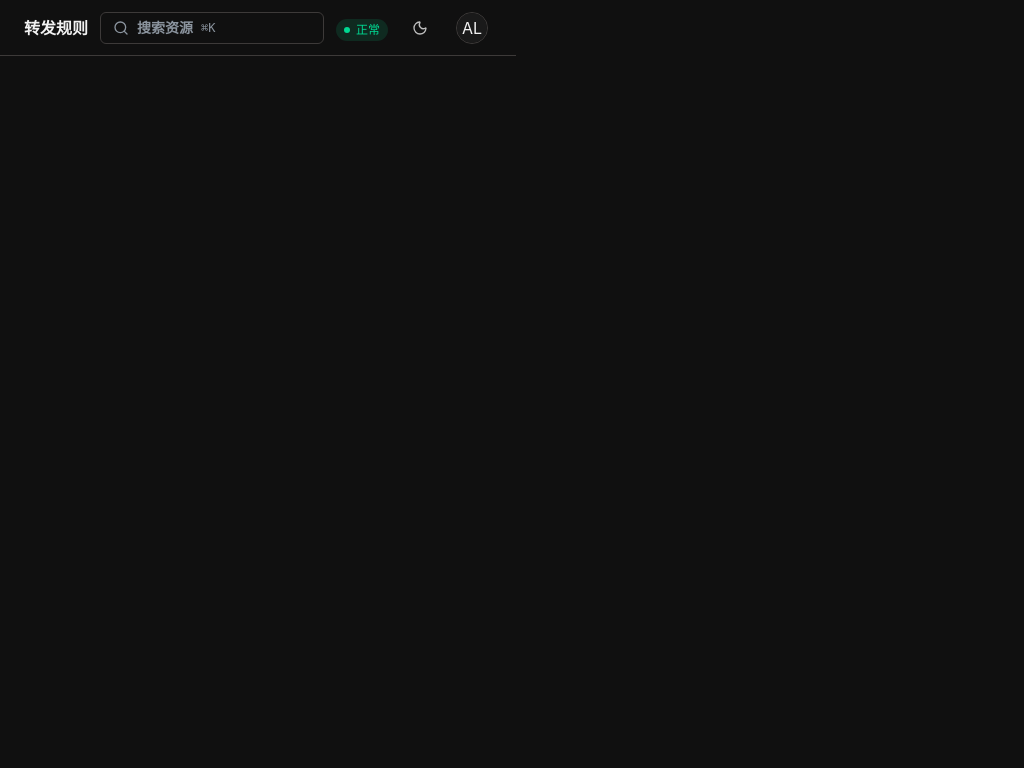
Test: 应用外壳与命令面板 › CmdK打开、按类型分组、键盘回车跳转真实focus ID，Esc关闭
The image size is (1024, 768).
Press k
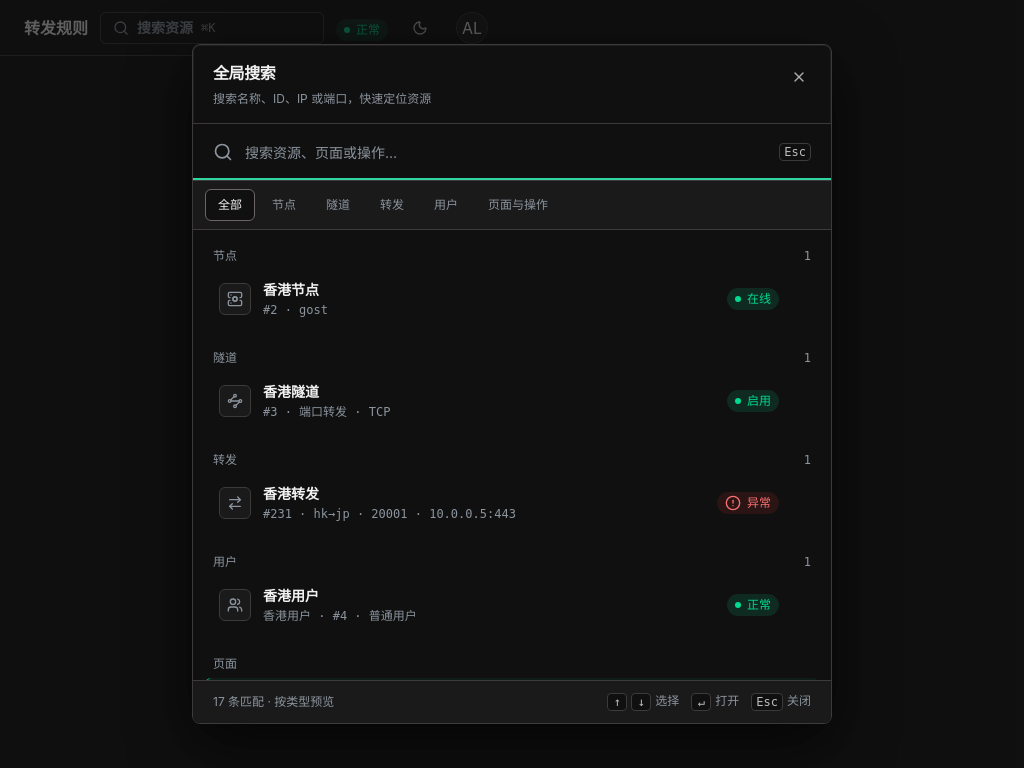
Check: the text "香港转发" is shown, box left=263, top=485, right=319, bottom=502
Check: the button "节点" is shown, box left=259, top=189, right=309, bottom=221
Check: the button "隧道" is shown, box left=313, top=189, right=363, bottom=221
In the dropdown labelled "搜索资源": (506, 152) left=245, top=124, right=767, bottom=180, type "香港转发"
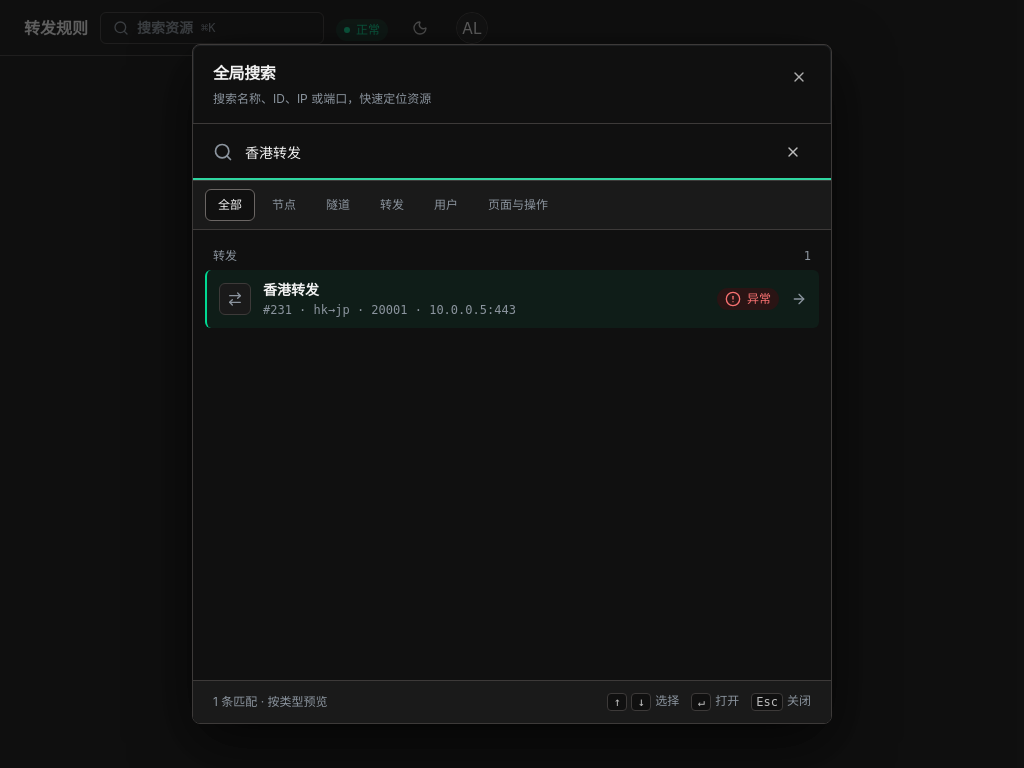
Check: the text "异常" is shown, box left=717, top=288, right=779, bottom=310
Check: the option "香港节点" is gone
Press ArrowDown in the dropdown named "搜索资源", box left=245, top=124, right=763, bottom=180
Press Enter in the dropdown named "搜索资源", box left=245, top=124, right=763, bottom=180
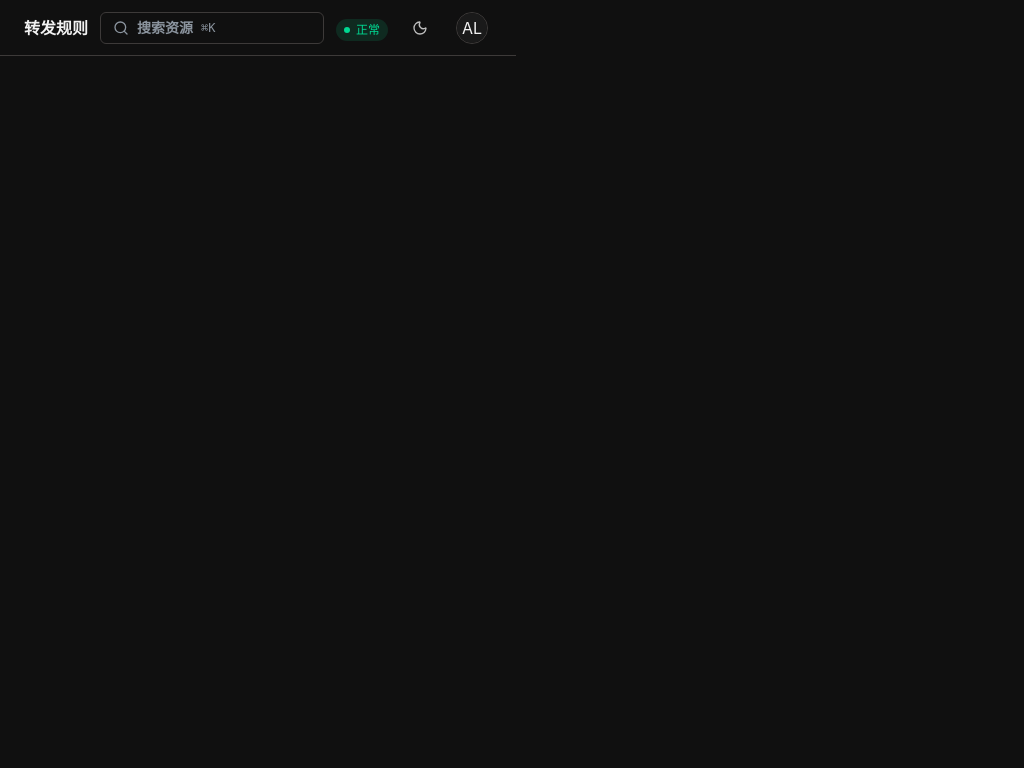
Check: the dialog is gone
Press k
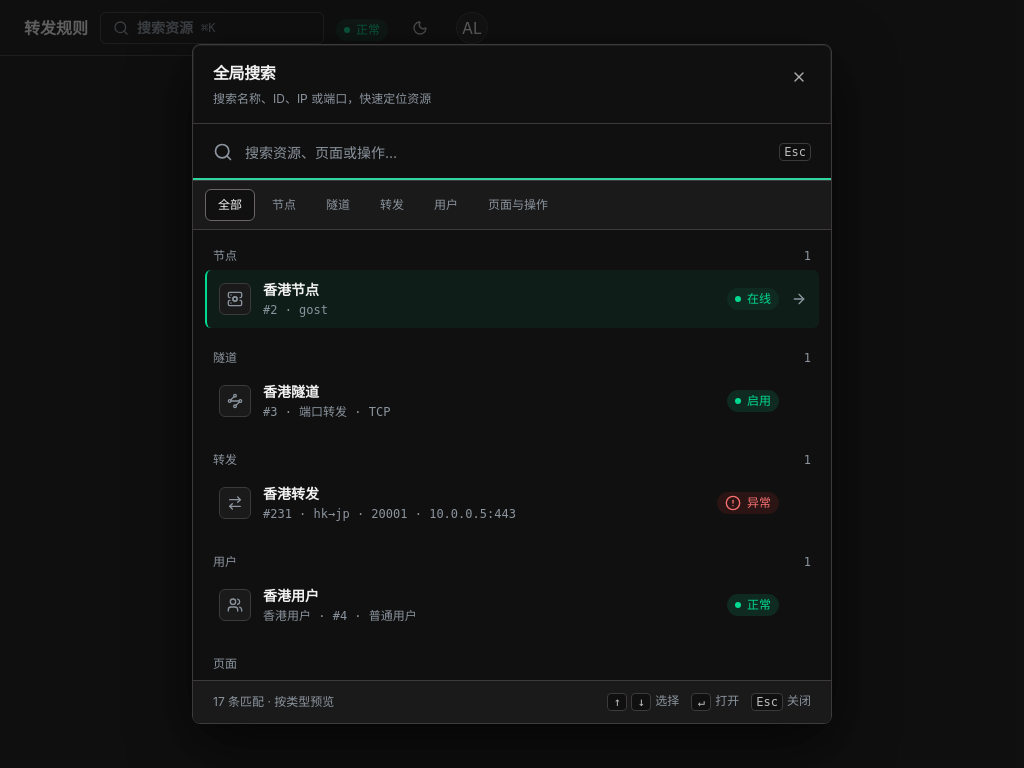
Check: the dialog is shown, box left=192, top=44, right=832, bottom=724
Press Escape in the dropdown with placeholder "搜索资源、页面或操作…", box left=245, top=124, right=767, bottom=180
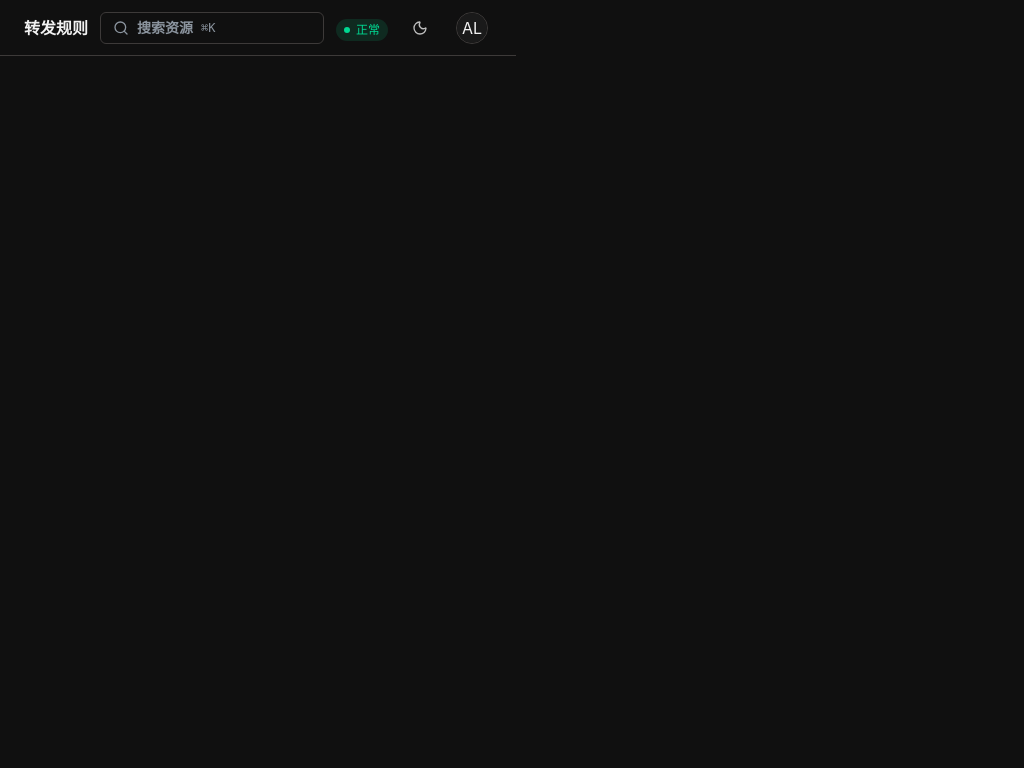
Check: the dialog is gone
